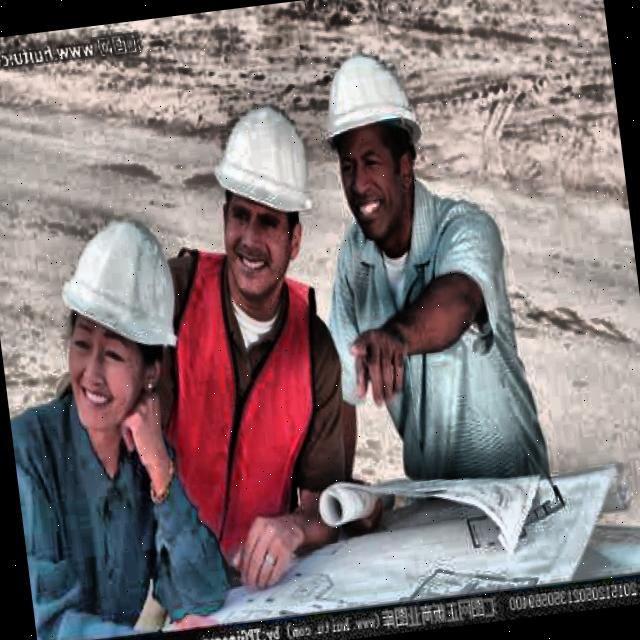helmet: (42, 199, 207, 446), (192, 88, 335, 308), (303, 33, 443, 256)
